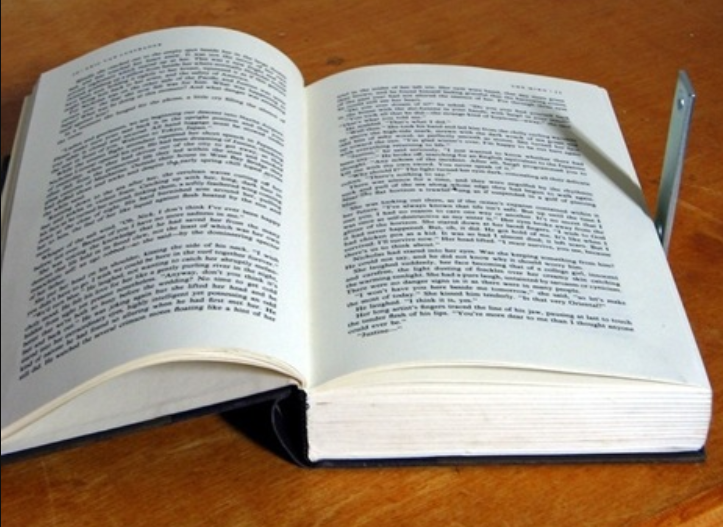book: (10, 24, 712, 473)
